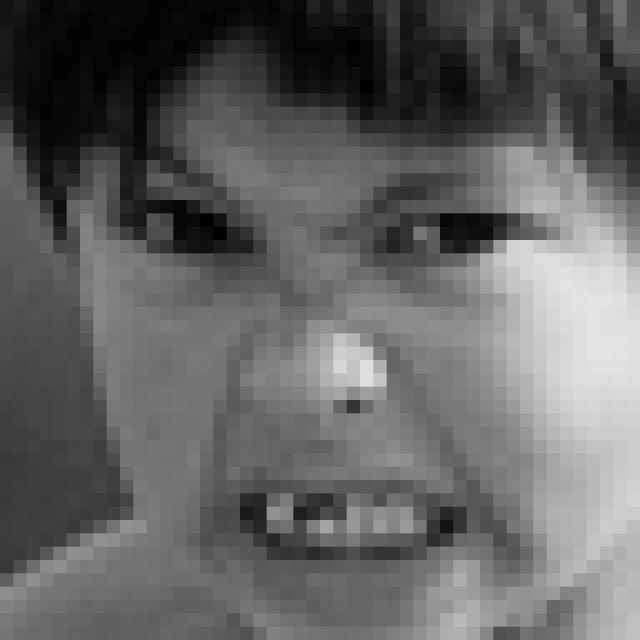angry: (110, 144, 586, 597)
